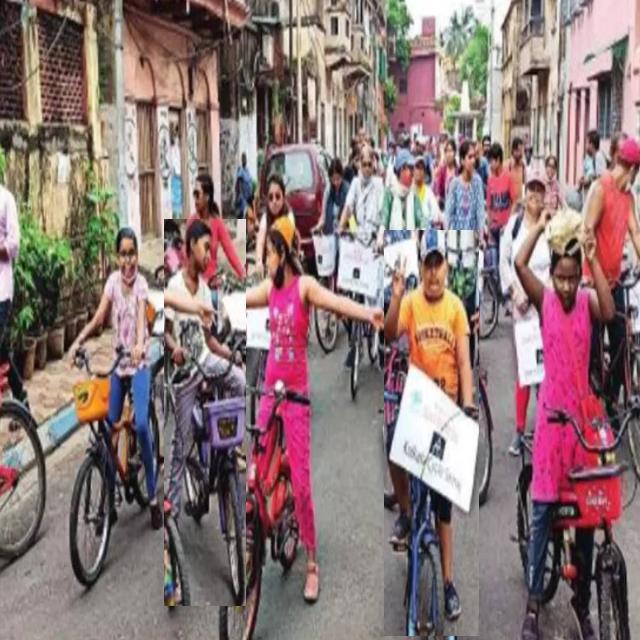bicycle: (199, 216, 389, 638), (515, 209, 640, 638), (384, 231, 479, 636), (70, 227, 162, 586), (164, 220, 246, 606)
